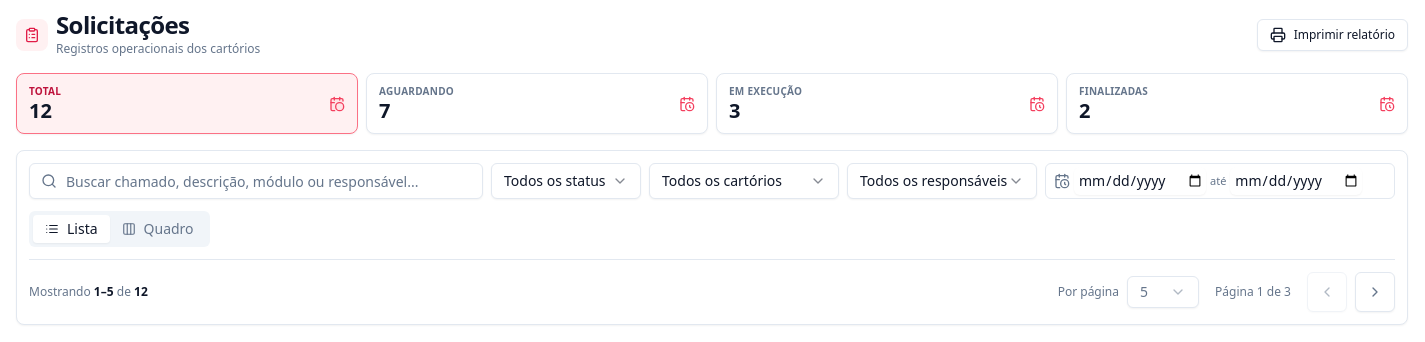
CS/CX — ações por permissão › filtra a lista ao clicar nos cards de resumo
This screenshot has width=1425, height=342.
Click the button with aria-label "filtrar por em execução: 3 solicitações": (887, 104) [716, 73, 1058, 134]
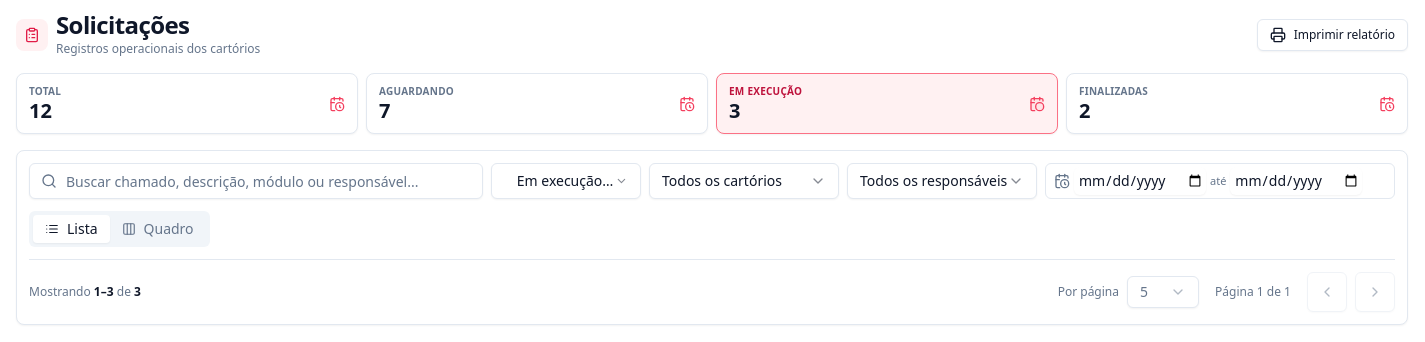
Check: the element named "Mostrando 1 a 3 de 3 solicitações" is shown, box [29, 284, 141, 300]
Click the button with aria-label "filtrar por total: 12 solicitações": (187, 104) [16, 73, 358, 134]
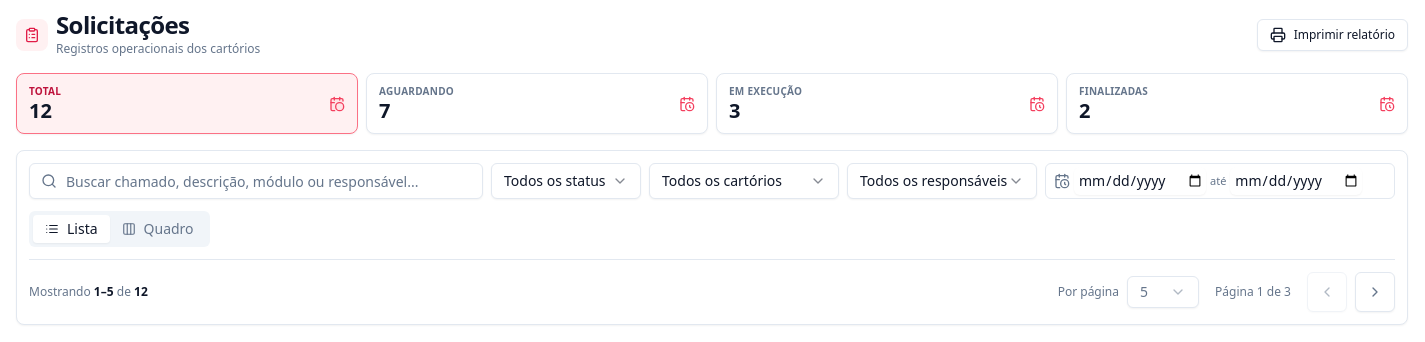
Check: the element named "Mostrando 1 a 5 de 12 solicitações" is shown, box [29, 284, 148, 300]
